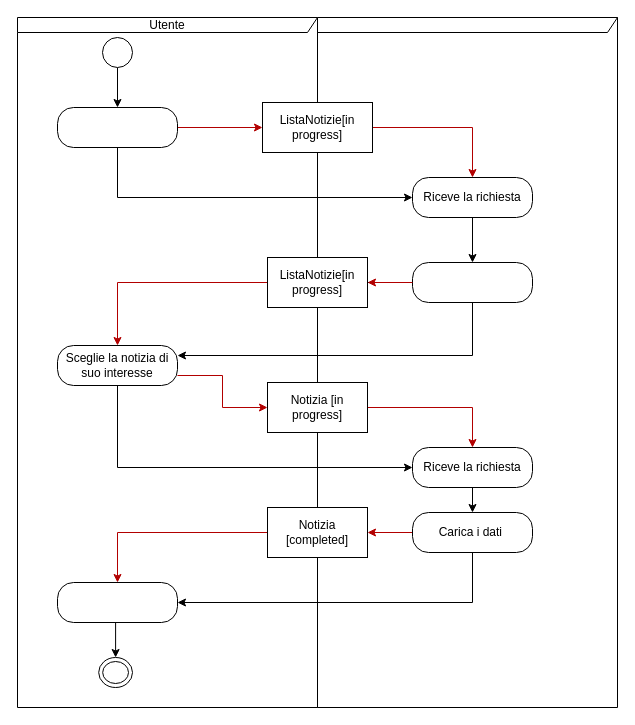
The diagram is 635 pixels wide and 725 high, and some of its shapes have lost their labels. Here are the shapes that lost their labels. From the top down, the box of each, then its label:
(56, 106, 178, 148): Accede all'appicazione
(412, 262, 532, 302): Carica le notizie
(316, 16, 618, 708): Sistema
(56, 582, 178, 622): Riceve la notizia
